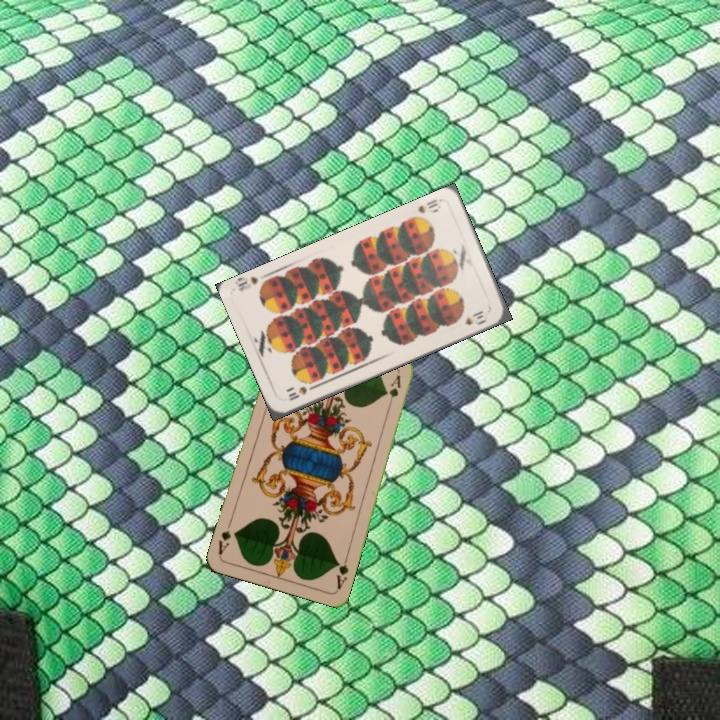GA: (332, 552, 351, 592)
S10: (284, 381, 319, 403), (413, 195, 440, 216)
